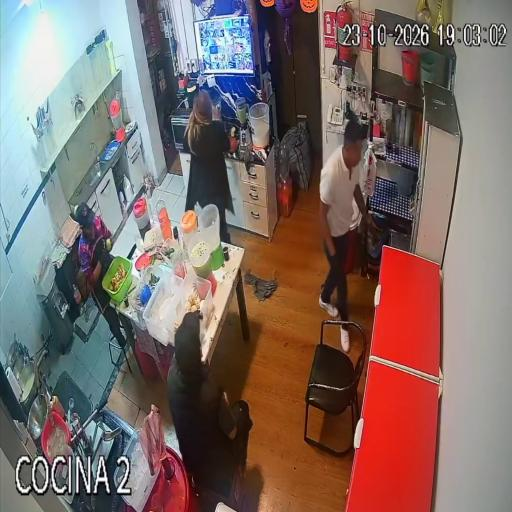Balde: (249, 102, 270, 149)
Envase Llajua: (51, 395, 64, 418)
Jarra1: (133, 197, 150, 238)
Jarra2: (180, 210, 198, 250)
Jarra3: (188, 238, 216, 294)
Jarra4: (198, 204, 224, 270)
JarraLicuadora: (212, 97, 221, 120)
Licuadora2: (235, 97, 251, 150)
Microondas: (170, 109, 191, 149)
Persona1: (167, 312, 253, 496)
Persona2: (184, 91, 234, 243)
Persona3: (319, 119, 370, 320)
Persona5: (75, 202, 126, 347)
Taper: (102, 256, 132, 303)
Taper2: (129, 264, 164, 325)
Taper3: (143, 271, 183, 346)
Taper4: (164, 268, 214, 347)
Taper5: (115, 430, 159, 512)
